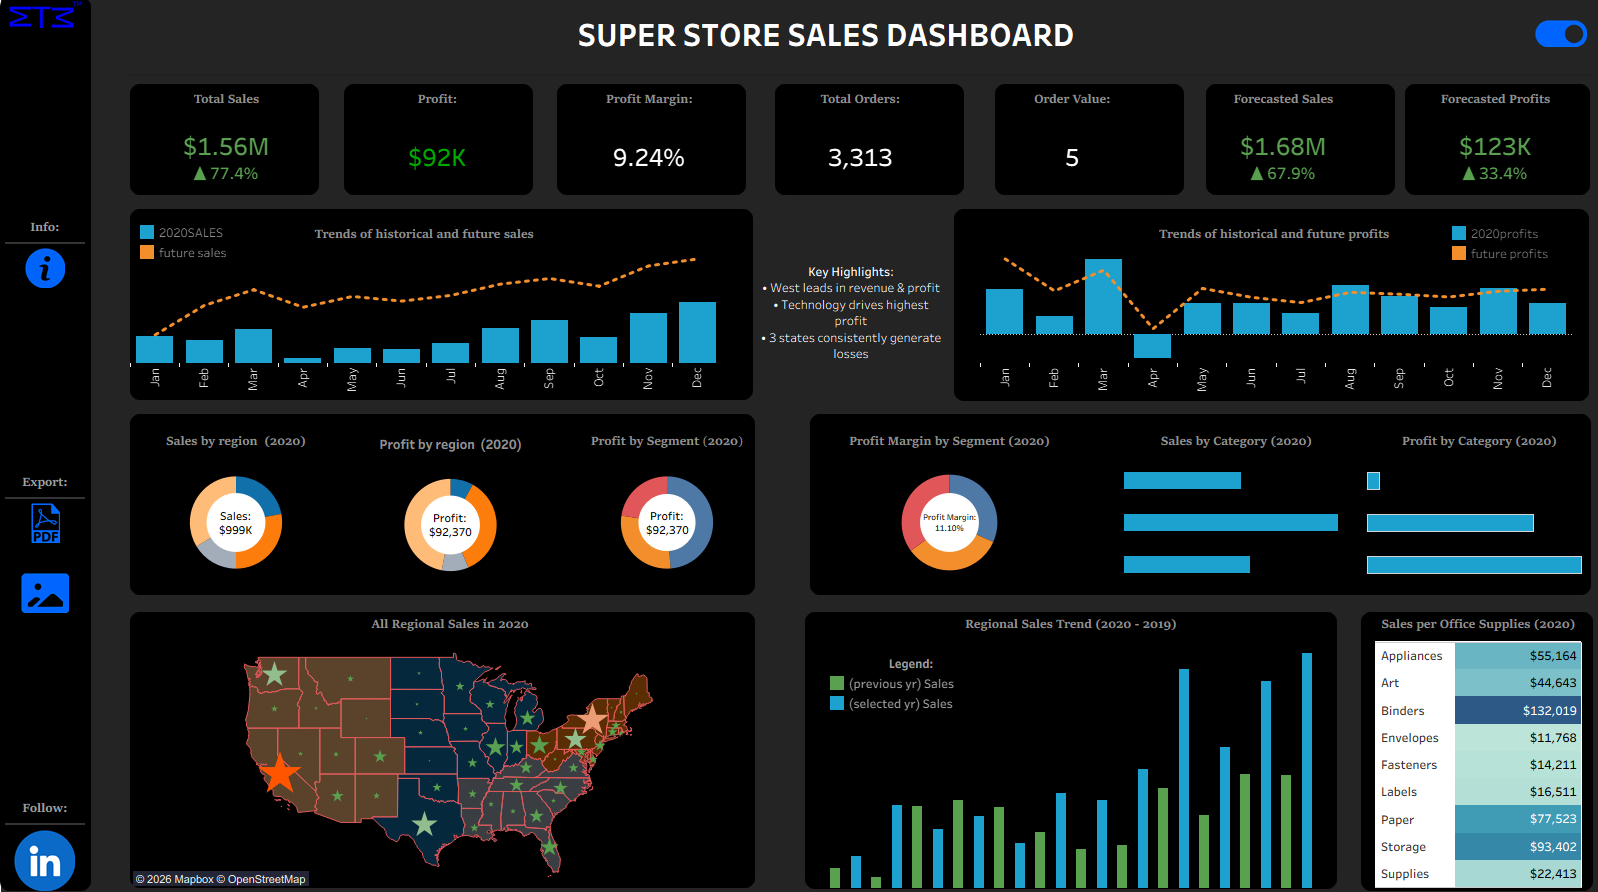

What the dashboard file says about the page in this screenshot:
{"tool":"tableau","page":{"name":"Summary_Dashboard","canvas":[1000,1000],"units":"permille","ordinal":0},"visuals":[{"type":"blank","box":[0,0,20,994.5]},{"type":"text","box":[20,0,906.2,81.1]},{"type":"text","box":[71.2,0,928.8,614.5]},{"type":"parameter","param":"[Parameters].[Parameter 1]","box":[688.1,0,67,81.1]},{"type":"parameter","param":"[Parameters].[Parameter 3]","box":[755.1,0,67,81.1]},{"type":"parameter","param":"[Parameters].[Parameter 2]","box":[822.2,0,67,81.1]},{"type":"highlighter","title":"sales by state_(country_selected)","param":"[federated.1g4xwe802btlr615fh1540mymxtq].[none:Region:nk]","box":[889.2,0,67,81.1]},{"type":"dashboard-object","box":[926.2,0,37.5,81.1]},{"type":"blank","box":[963.8,0,6.2,81.1]},{"type":"blank","box":[20,81.1,980,11.1]},{"type":"worksheet","title":"TotalSales_KPI","mark":"Text","box":[23.1,97.8,133.8,127.8]},{"type":"blank","box":[157,97.8,6.2,127.8]},{"type":"worksheet","title":"TotalProfit_KPI","mark":"Automatic","box":[163.2,97.8,133.8,127.8]},{"type":"blank","box":[297.1,97.8,6.2,127.8]},{"type":"worksheet","title":"TotalProfitMargin_KPI ","mark":"Automatic","box":[303.3,97.8,133.1,127.8]},{"type":"blank","box":[436.5,97.8,6.2,127.8]},{"type":"worksheet","title":"TotalOrders_KPI","mark":"Text","box":[442.7,97.8,133.8,127.8]},{"type":"blank","box":[576.6,97.8,6.2,127.8]},{"type":"worksheet","title":"AverageOrderValue_KPI","mark":"Automatic","box":[582.8,97.8,133.8,127.8]},{"type":"blank","box":[716.7,97.8,6.2,127.8]},{"type":"worksheet","title":"ForecastedSales_KPI ","mark":"Text","box":[722.9,97.8,133.8,127.8]},{"type":"blank","box":[856.8,97.8,6.2,127.8]},{"type":"worksheet","title":"ForecastedProfits_KPI","mark":"Text","box":[863,97.8,133.8,127.8]},{"type":"blank","box":[20,231.1,980,11.1]},{"type":"worksheet","title":"sales_trend_forecast","mark":"Automatic","rows":["Calculation_0238372412952578","historical sales (copy)_0238372408348673"],"cols":["Order Date (sales_prophet_df.csv+)"],"box":[23.1,247.8,375,207.8]},{"type":"blank","box":[398.1,247.8,15.6,207.8]},{"type":"text","box":[413.8,247.8,125,207.8]},{"type":"blank","box":[538.8,247.8,15.6,207.8]},{"type":"worksheet","title":"profits_trend_forecast","mark":"Automatic","rows":["Calculation_0238372417605636","Calculation_0238372417953797"],"cols":["Order Date (profit_prophet_df.csv+)"],"box":[554.4,247.8,420.6,207.8]},{"type":"legend","title":"sales_trend_forecast","param":"[federated.0rofkdp0ipxrtx13yp9lp172uxxx].[:Measure Names]","box":[28.8,248.9,87.5,64.4]},{"type":"legend","title":"profits_trend_forecast","param":"[federated.0d58g38142ado618xoddv0dkhc5y].[:Measure Names]","box":[905,251.1,87.5,44.4]},{"type":"blank","box":[20,461.1,980,11.1]},{"type":"worksheet","title":"Sales by region","mark":"Pie","rows":["Calculation_0502518376960004","Calculation_0502518376960004"],"box":[23.1,477.8,137.5,181.1]},{"type":"blank","box":[160.6,477.8,6.2,181.1]},{"type":"worksheet","title":"Profit by region","mark":"Pie","rows":["Calculation_0502518376960004","Calculation_0502518376960004"],"box":[166.9,477.8,118.1,181.1]},{"type":"blank","box":[285,477.8,6.2,181.1]},{"type":"worksheet","title":"Profit by Segment","mark":"Pie","rows":["Calculation_0502518376960004","Calculation_0502518376960004"],"box":[291.3,477.8,140,181.1]},{"type":"blank","box":[431.3,477.8,6.2,181.1]},{"type":"worksheet","title":"Profit Margin by Segment","mark":"Pie","rows":["Calculation_0502518376960004","Calculation_0502518376960004"],"box":[437.5,477.8,200.6,181.1]},{"type":"blank","box":[638.1,477.8,6.2,181.1]},{"type":"worksheet","title":"Sales by Category","mark":"Automatic","rows":["Category"],"cols":["Calculation_0744685495193603"],"box":[644.4,477.8,173.1,181.1]},{"type":"blank","box":[817.5,477.8,6.2,181.1]},{"type":"worksheet","title":"Profit by Category","mark":"Bar","rows":["Category"],"cols":["Calculation_0744685500588036"],"box":[823.8,477.8,173.1,181.1]},{"type":"blank","box":[20,664.4,980,11.1]},{"type":"worksheet","title":"sales by state_(country_selected)","mark":"Shape","box":[23.1,681.1,458.1,313.4]},{"type":"blank","box":[481.2,681.1,31.2,313.4]},{"type":"worksheet","title":"Regional sales Trend","mark":"Automatic","rows":["Calculation_0135843313754129","Calculation_0502518365290497","show(previous yr) sales selected category (copy)_01358433117","show(selected yr) sales for chosen category (copy)_013584331"],"cols":["Order Date"],"box":[512.5,681.1,312.5,313.4]},{"type":"blank","box":[825,681.1,31.2,313.4]},{"type":"worksheet","title":"Sales per Sub_Category","mark":"Square","rows":["Calculation_0534679495311361"],"box":[856.2,681.1,134.4,313.4]},{"type":"blank","box":[990.6,681.1,6.2,313.4]},{"type":"legend","title":"Regional sales Trend","param":"[federated.1g4xwe802btlr615fh1540mymxtq].[:Measure Names]","box":[516.2,731.1,105,111.1]}]}

Visuals, with their boxes on the dashboard's canvas, which has no fixed pixel size, in thousandths of its width and height (x1, y1, x2, y2). These are canvas units, not pixel positions in the 1598x892 screenshot, which may show the page scaled, cropped or inside an application window:
blank: box(0, 0, 20, 994)
text: box(20, 0, 926, 81)
text: box(71, 0, 1000, 614)
parameter: box(688, 0, 755, 81)
parameter: box(755, 0, 822, 81)
parameter: box(822, 0, 889, 81)
"sales by state_(country_selected)" highlighter: box(889, 0, 956, 81)
dashboard-object: box(926, 0, 964, 81)
blank: box(964, 0, 970, 81)
blank: box(20, 81, 1000, 92)
"TotalSales_KPI" worksheet (Text marks): box(23, 98, 157, 226)
blank: box(157, 98, 163, 226)
"TotalProfit_KPI" worksheet: box(163, 98, 297, 226)
blank: box(297, 98, 303, 226)
"TotalProfitMargin_KPI " worksheet: box(303, 98, 436, 226)
blank: box(436, 98, 443, 226)
"TotalOrders_KPI" worksheet (Text marks): box(443, 98, 576, 226)
blank: box(577, 98, 583, 226)
"AverageOrderValue_KPI" worksheet: box(583, 98, 717, 226)
blank: box(717, 98, 723, 226)
"ForecastedSales_KPI " worksheet (Text marks): box(723, 98, 857, 226)
blank: box(857, 98, 863, 226)
"ForecastedProfits_KPI" worksheet (Text marks): box(863, 98, 997, 226)
blank: box(20, 231, 1000, 242)
"sales_trend_forecast" worksheet: box(23, 248, 398, 456)
blank: box(398, 248, 414, 456)
text: box(414, 248, 539, 456)
blank: box(539, 248, 554, 456)
"profits_trend_forecast" worksheet: box(554, 248, 975, 456)
"sales_trend_forecast" legend: box(29, 249, 116, 313)
"profits_trend_forecast" legend: box(905, 251, 992, 296)
blank: box(20, 461, 1000, 472)
"Sales by region" worksheet (Pie marks): box(23, 478, 161, 659)
blank: box(161, 478, 167, 659)
"Profit by region" worksheet (Pie marks): box(167, 478, 285, 659)
blank: box(285, 478, 291, 659)
"Profit by Segment" worksheet (Pie marks): box(291, 478, 431, 659)
blank: box(431, 478, 438, 659)
"Profit Margin by Segment" worksheet (Pie marks): box(438, 478, 638, 659)
blank: box(638, 478, 644, 659)
"Sales by Category" worksheet: box(644, 478, 818, 659)
blank: box(818, 478, 824, 659)
"Profit by Category" worksheet (Bar marks): box(824, 478, 997, 659)
blank: box(20, 664, 1000, 676)
"sales by state_(country_selected)" worksheet (Shape marks): box(23, 681, 481, 994)
blank: box(481, 681, 512, 994)
"Regional sales Trend" worksheet: box(512, 681, 825, 994)
blank: box(825, 681, 856, 994)
"Sales per Sub_Category" worksheet (Square marks): box(856, 681, 991, 994)
blank: box(991, 681, 997, 994)
"Regional sales Trend" legend: box(516, 731, 621, 842)
